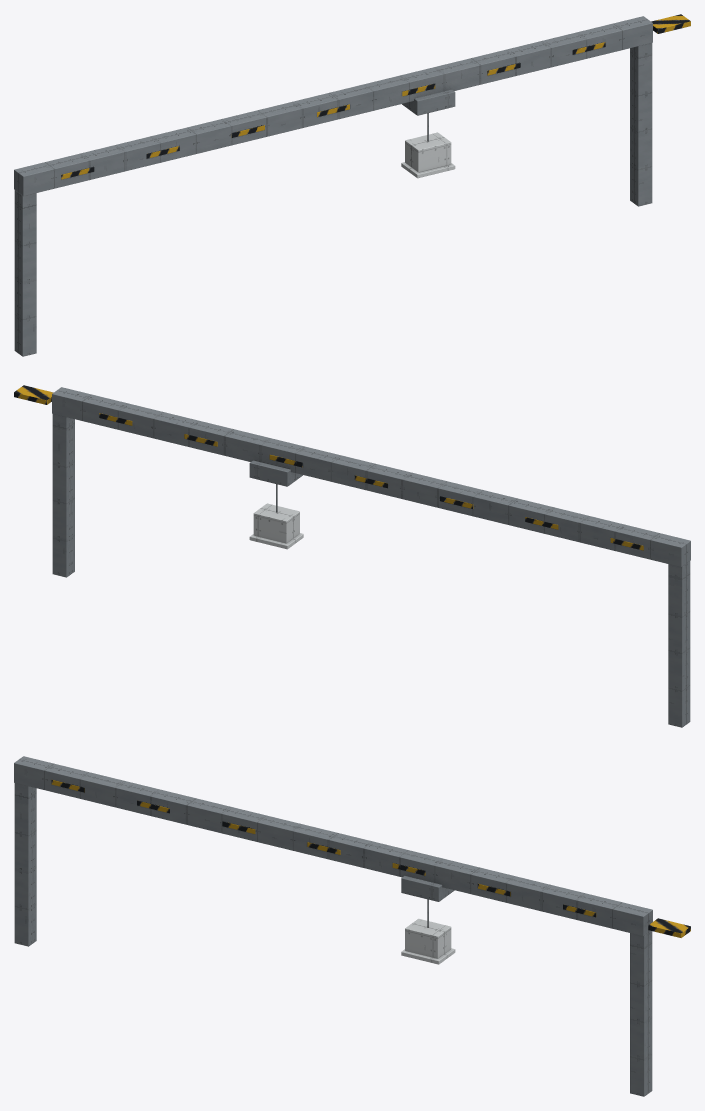
File: base_gantry_crane.glb
3 views of the same model, one above another, from view 1: azimuth 30°, elevation 25°; view 2: azimuth 150°, elevation 25°; view 3: azimuth 330°, elevation 25° (orthographic).
Parts seen in each view (by area): view 1: base_gantry_crane; view 2: base_gantry_crane; view 3: base_gantry_crane.
Boxes of the visible parts, x1,y1,x2,y2 form: base_gantry_crane: (14,14,690,356); base_gantry_crane: (14,385,690,727); base_gantry_crane: (14,756,690,1096).
Bounding box in the file's own units: 28.2 × 7.3 × 1.2.
Materials: 3 (3 with a texture image).
